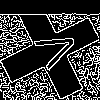V: (25, 25, 81, 76)
